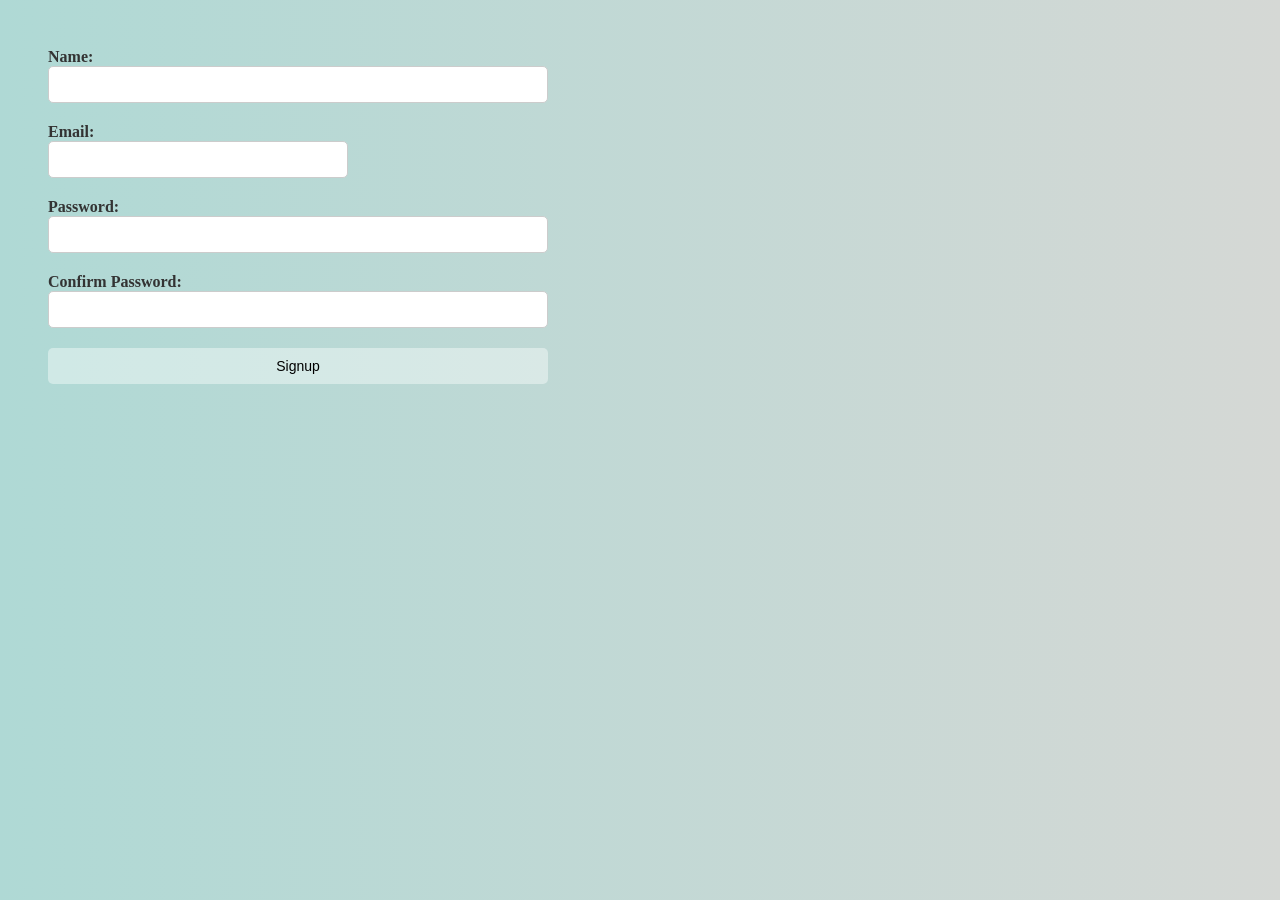
a server error is shown
Type "Ada" into the field labelled "Name:".
click(298, 84); type("Ada")  # box 48,66 -> 548,103
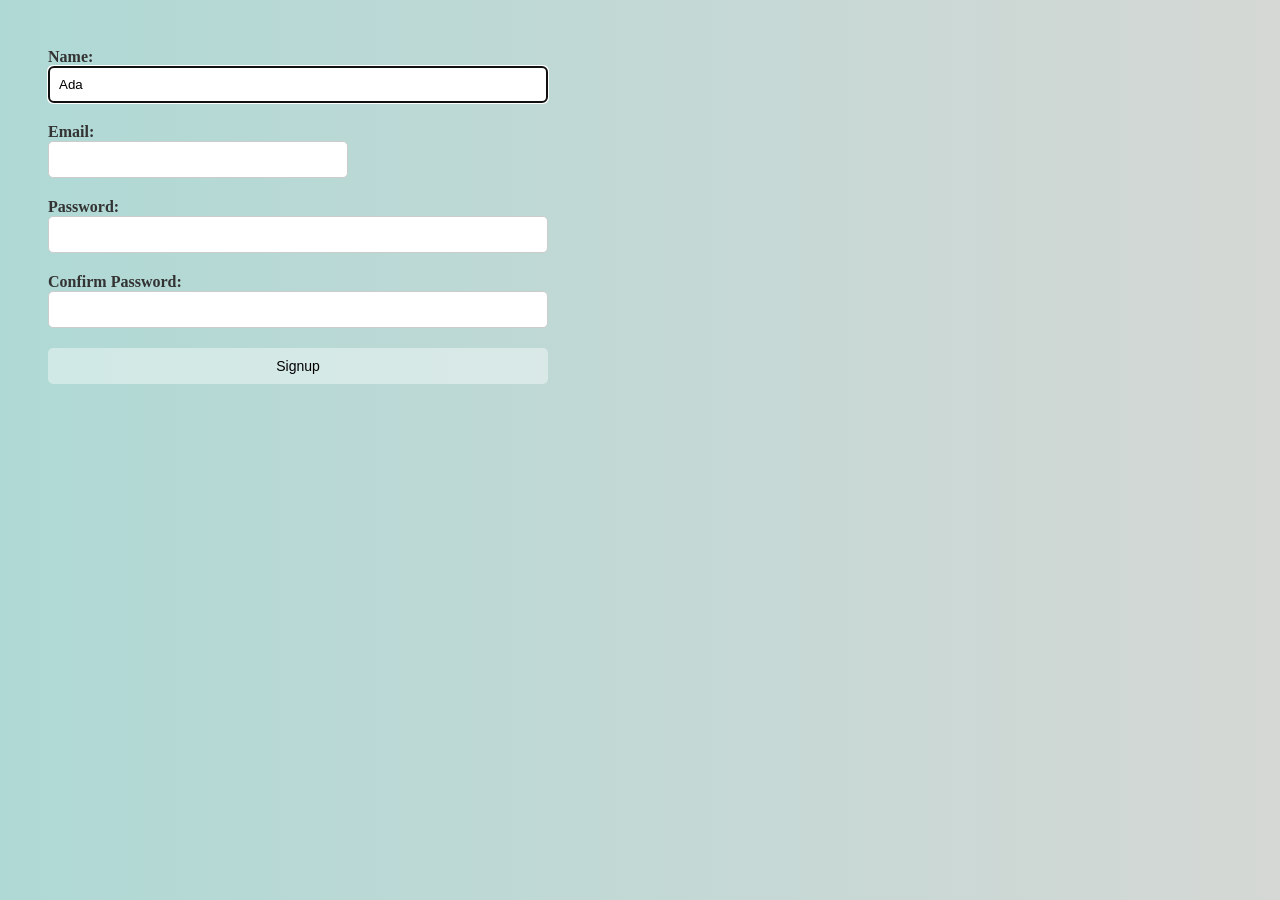
Type "ada@example.com" into the field labelled "Email:".
click(198, 160); type("ada@example.com")  # box 48,141 -> 348,178
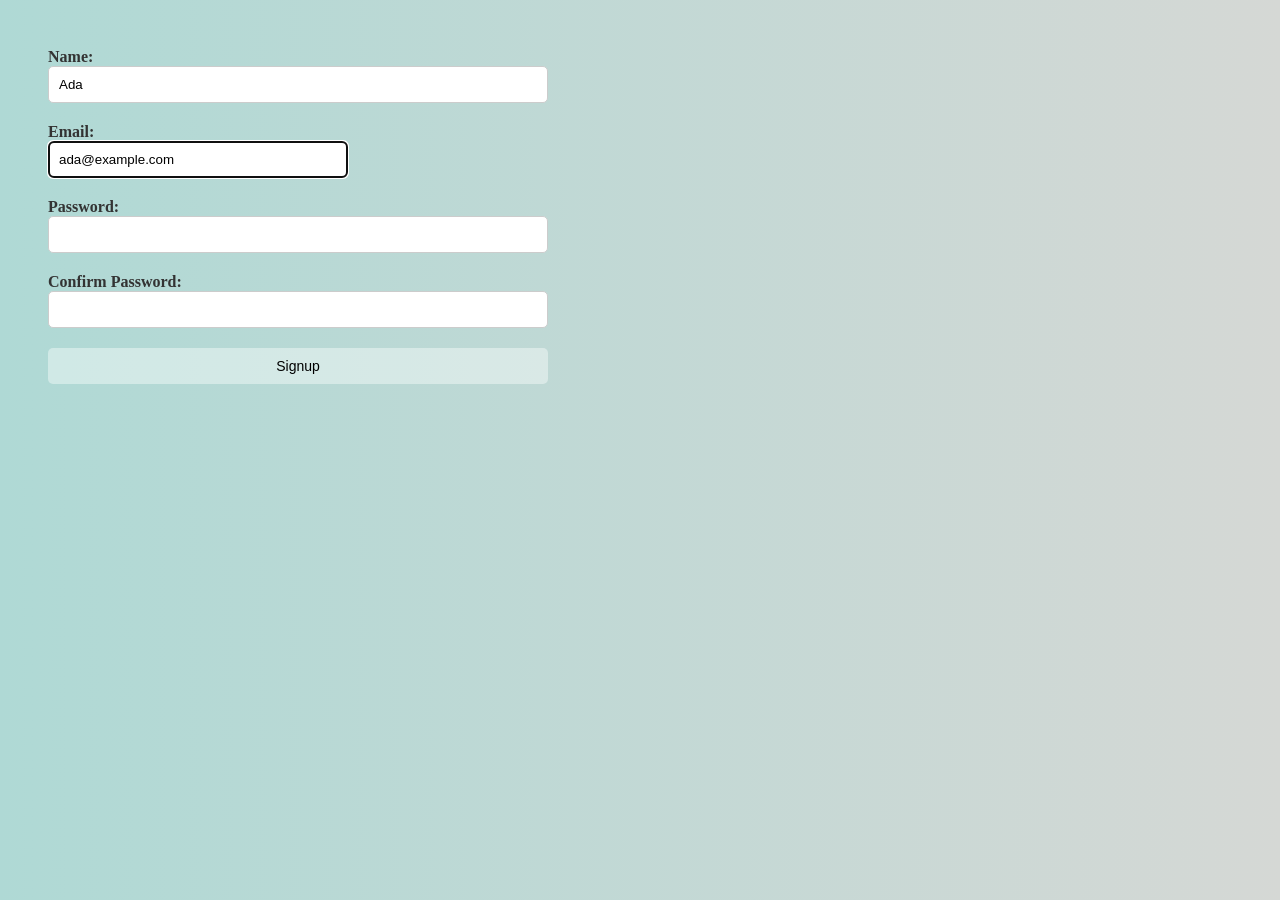
Type "harvest42" into the password field labelled "Password:".
click(298, 234); type("harvest42")  # box 48,216 -> 548,253
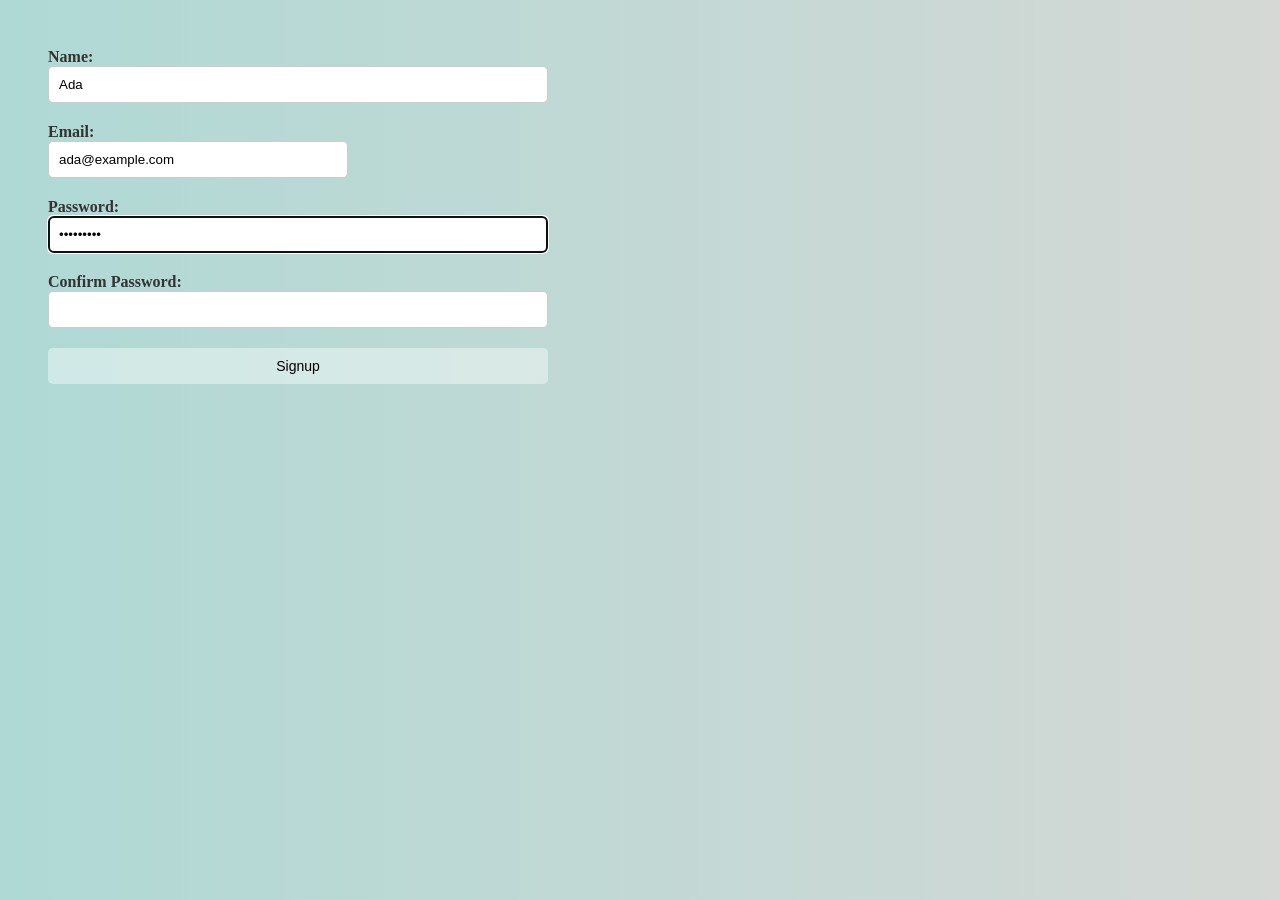
Type "harvest42" into the password field labelled "Confirm Password:".
click(298, 310); type("harvest42")  # box 48,291 -> 548,328
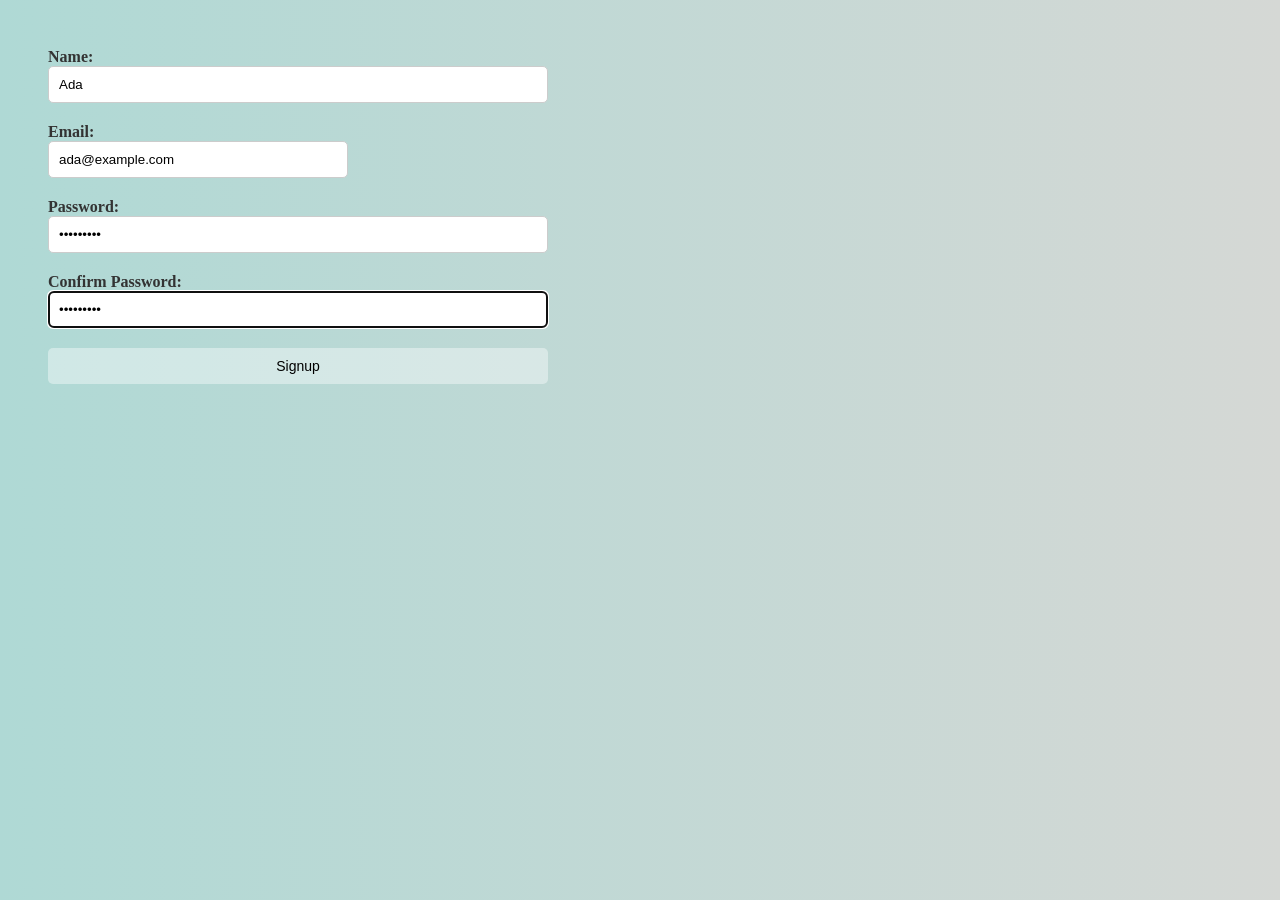
Click the button "Signup".
click(298, 366)  # box 48,348 -> 548,384
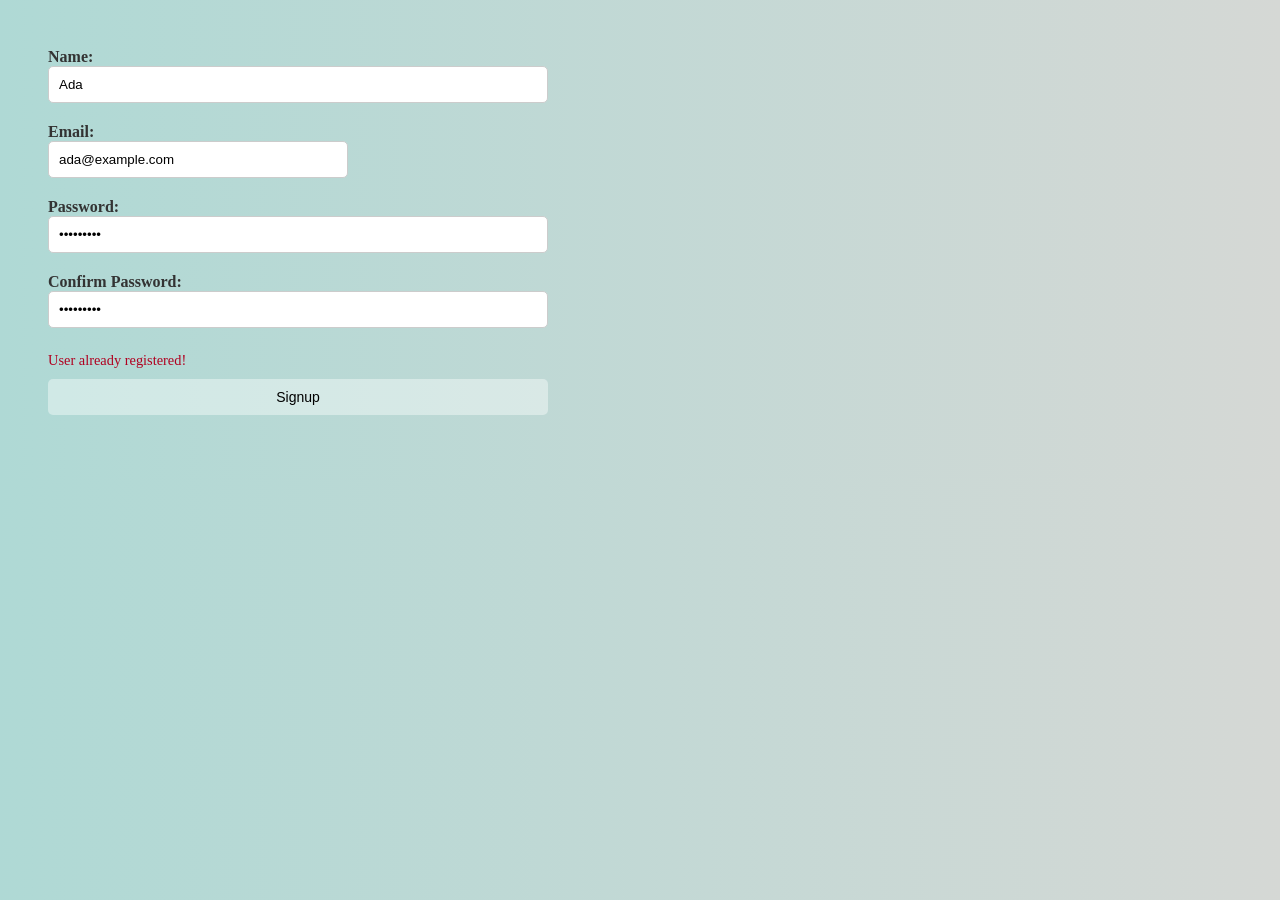
Check: the message reads "User already registered!", box 48,352 -> 186,368
